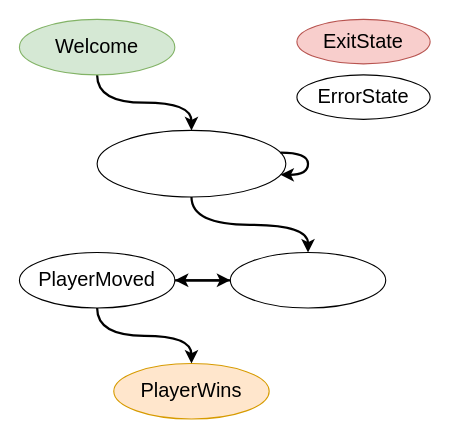
The diagram is 450 pixels wide and 438 high, and some of its shapes have lost their labels. Here are the shapes that lost their labels. From the top down, the box of each, then its label:
(96, 129, 286, 197): WaitingForPlayers
(229, 251, 386, 308): PlayerTurn
